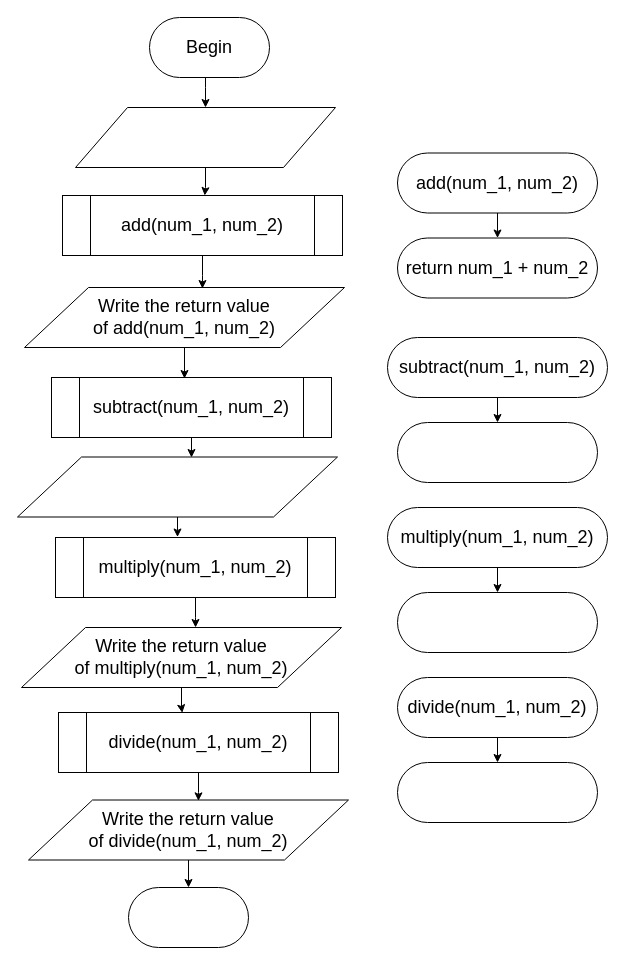
This 625x965 diagram has some shape labels left out. The shapes that lost their labels are listed below. From the top down, each one's box as (x1, y1, x2, y2) in pixels, then its label:
(74, 106, 336, 168): Read num_1, num_2
(396, 422, 598, 482): return num_1 - num_2
(16, 456, 338, 517): Write the return value of subtract(num_1, num_2)
(396, 592, 598, 652): return num_1 * num_2
(396, 762, 598, 822): return num_1 / num_2
(128, 886, 248, 948): End
